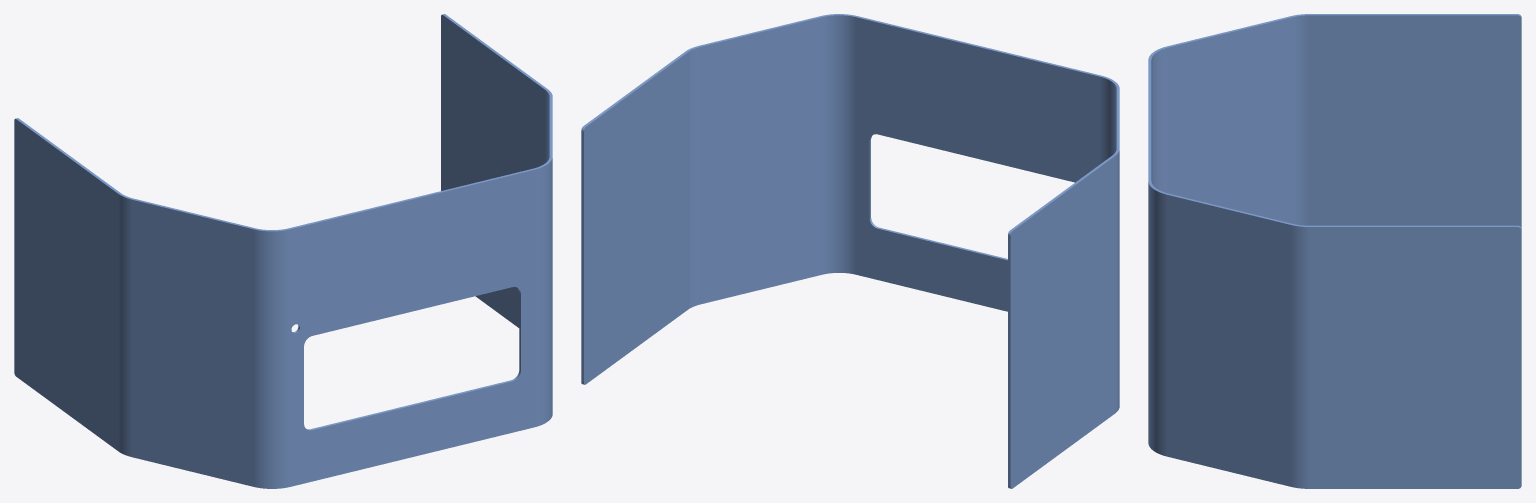
Rendered from VS1_SIMPLE_002_vspin_front_cover.gltf.
3 views of the same model, side by side, from view 1: azimuth 30°, elevation 25°; view 2: azimuth 150°, elevation 25°; view 3: azimuth 270°, elevation 25° (orthographic).
Visible parts, largest first — view 1: mesh305, mesh310, mesh314, mesh320, mesh309, mesh306, mesh311, mesh318; view 2: mesh290, mesh303, mesh314, mesh320, mesh302, mesh304, mesh318, mesh311, mesh299, mesh321, mesh316; view 3: mesh319, mesh315, mesh307, mesh300, mesh306, mesh308, mesh301, mesh299, mesh318.
Part boxes in pixels (x1=…): mesh305: x1=290, y1=170, x2=534, y2=486; mesh310: x1=132, y1=199, x2=253, y2=486; mesh314: x1=14, y1=118, x2=118, y2=450; mesh320: x1=441, y1=14, x2=544, y2=327; mesh309: x1=253, y1=229, x2=290, y2=488; mesh306: x1=534, y1=158, x2=552, y2=427; mesh311: x1=118, y1=194, x2=131, y2=456; mesh318: x1=16, y1=14, x2=552, y2=231; mesh290: x1=856, y1=17, x2=1099, y2=311; mesh303: x1=700, y1=17, x2=821, y2=304; mesh314: x1=1010, y1=156, x2=1114, y2=488; mesh320: x1=584, y1=52, x2=687, y2=384; mesh302: x1=822, y1=15, x2=856, y2=274; mesh304: x1=688, y1=47, x2=700, y2=309; mesh318: x1=583, y1=14, x2=1119, y2=230; mesh311: x1=1114, y1=150, x2=1119, y2=413; mesh299: x1=1099, y1=77, x2=1116, y2=164; mesh321: x1=581, y1=131, x2=583, y2=382; mesh316: x1=1008, y1=235, x2=1010, y2=486; mesh319: x1=1309, y1=227, x2=1521, y2=488; mesh315: x1=1309, y1=15, x2=1521, y2=227; mesh307: x1=1167, y1=195, x2=1290, y2=486; mesh300: x1=1168, y1=17, x2=1292, y2=223; mesh306: x1=1148, y1=182, x2=1167, y2=456; mesh308: x1=1291, y1=225, x2=1309, y2=488; mesh301: x1=1292, y1=15, x2=1309, y2=225; mesh299: x1=1151, y1=47, x2=1168, y2=193; mesh318: x1=1148, y1=14, x2=1517, y2=226.
Size of the model in its own units: 0.327 by 0.1875 by 0.2421.
